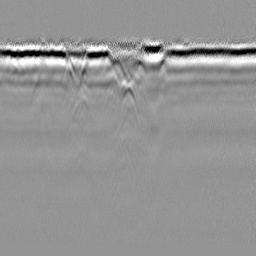cavity: (117, 82, 140, 119)
